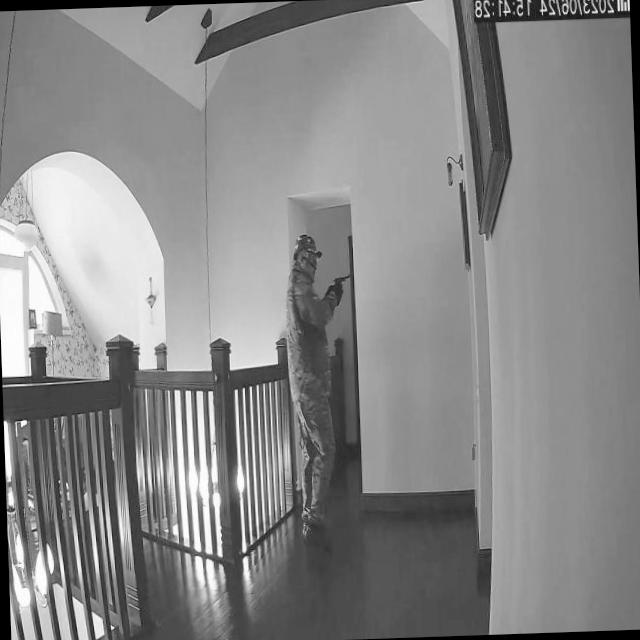gun: (331, 270, 350, 298)
person with a gun: (282, 232, 337, 548)
